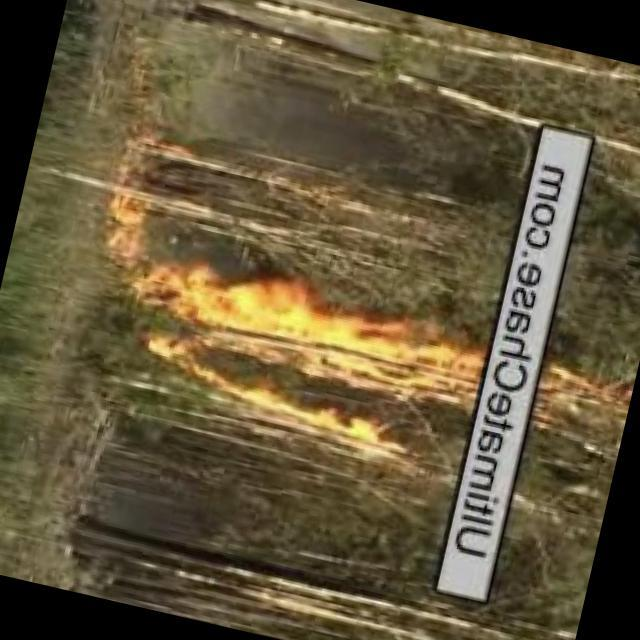Fire: (119, 240, 499, 494), (523, 357, 631, 435), (95, 192, 153, 259)
